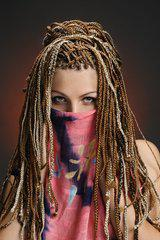OK: (49, 85, 102, 149)
